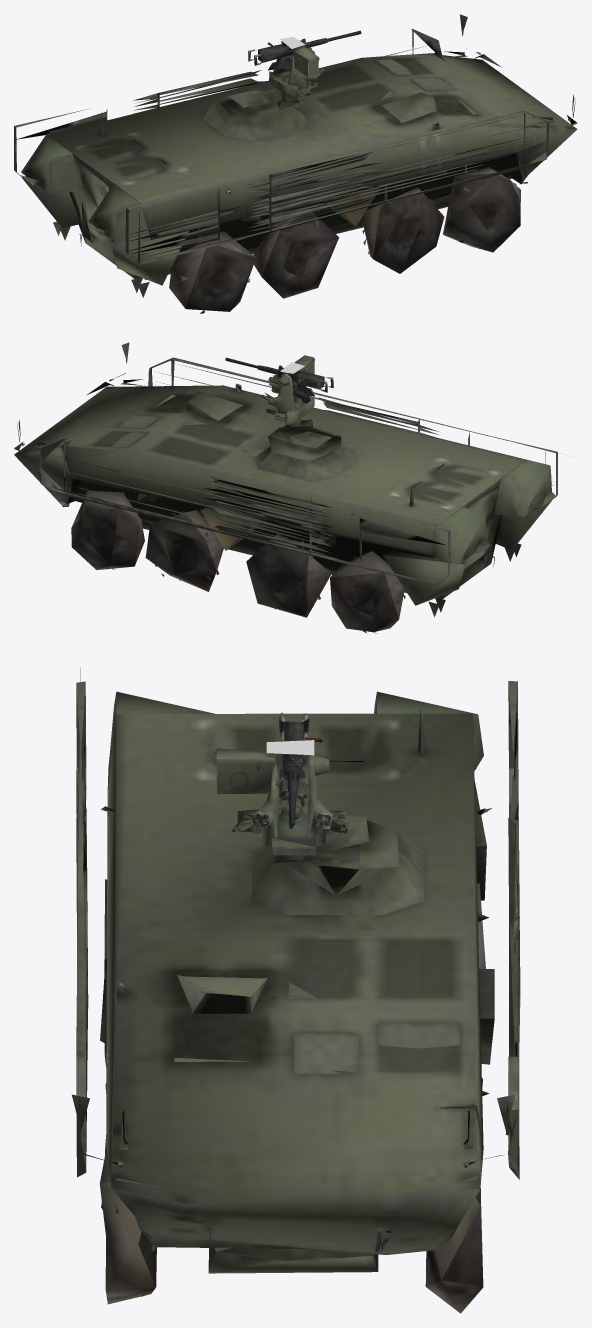
File: patria_lo.glb
3 views of the same model, one above another, from view 1: azimuth 30°, elevation 25°; view 2: azimuth 150°, elevation 25°; view 3: azimuth 270°, elevation 25° (orthographic). The views are drawn at different scales.
Visible parts, largest first — view 1: g_patria_hull, g_patria_turret; view 2: g_patria_hull, g_patria_turret; view 3: g_patria_hull, g_patria_turret.
Part boxes in pixels (<box>): g_patria_hull: <box>14,14,577,313</box>; g_patria_turret: <box>248,37,324,101</box>; g_patria_hull: <box>14,342,564,633</box>; g_patria_turret: <box>259,355,333,426</box>; g_patria_hull: <box>72,667,520,1313</box>; g_patria_turret: <box>214,712,351,860</box>.
Bounding box in the file's own units: 7.7 × 3.27 × 3.19.
Materials: 4 (3 with a texture image).
